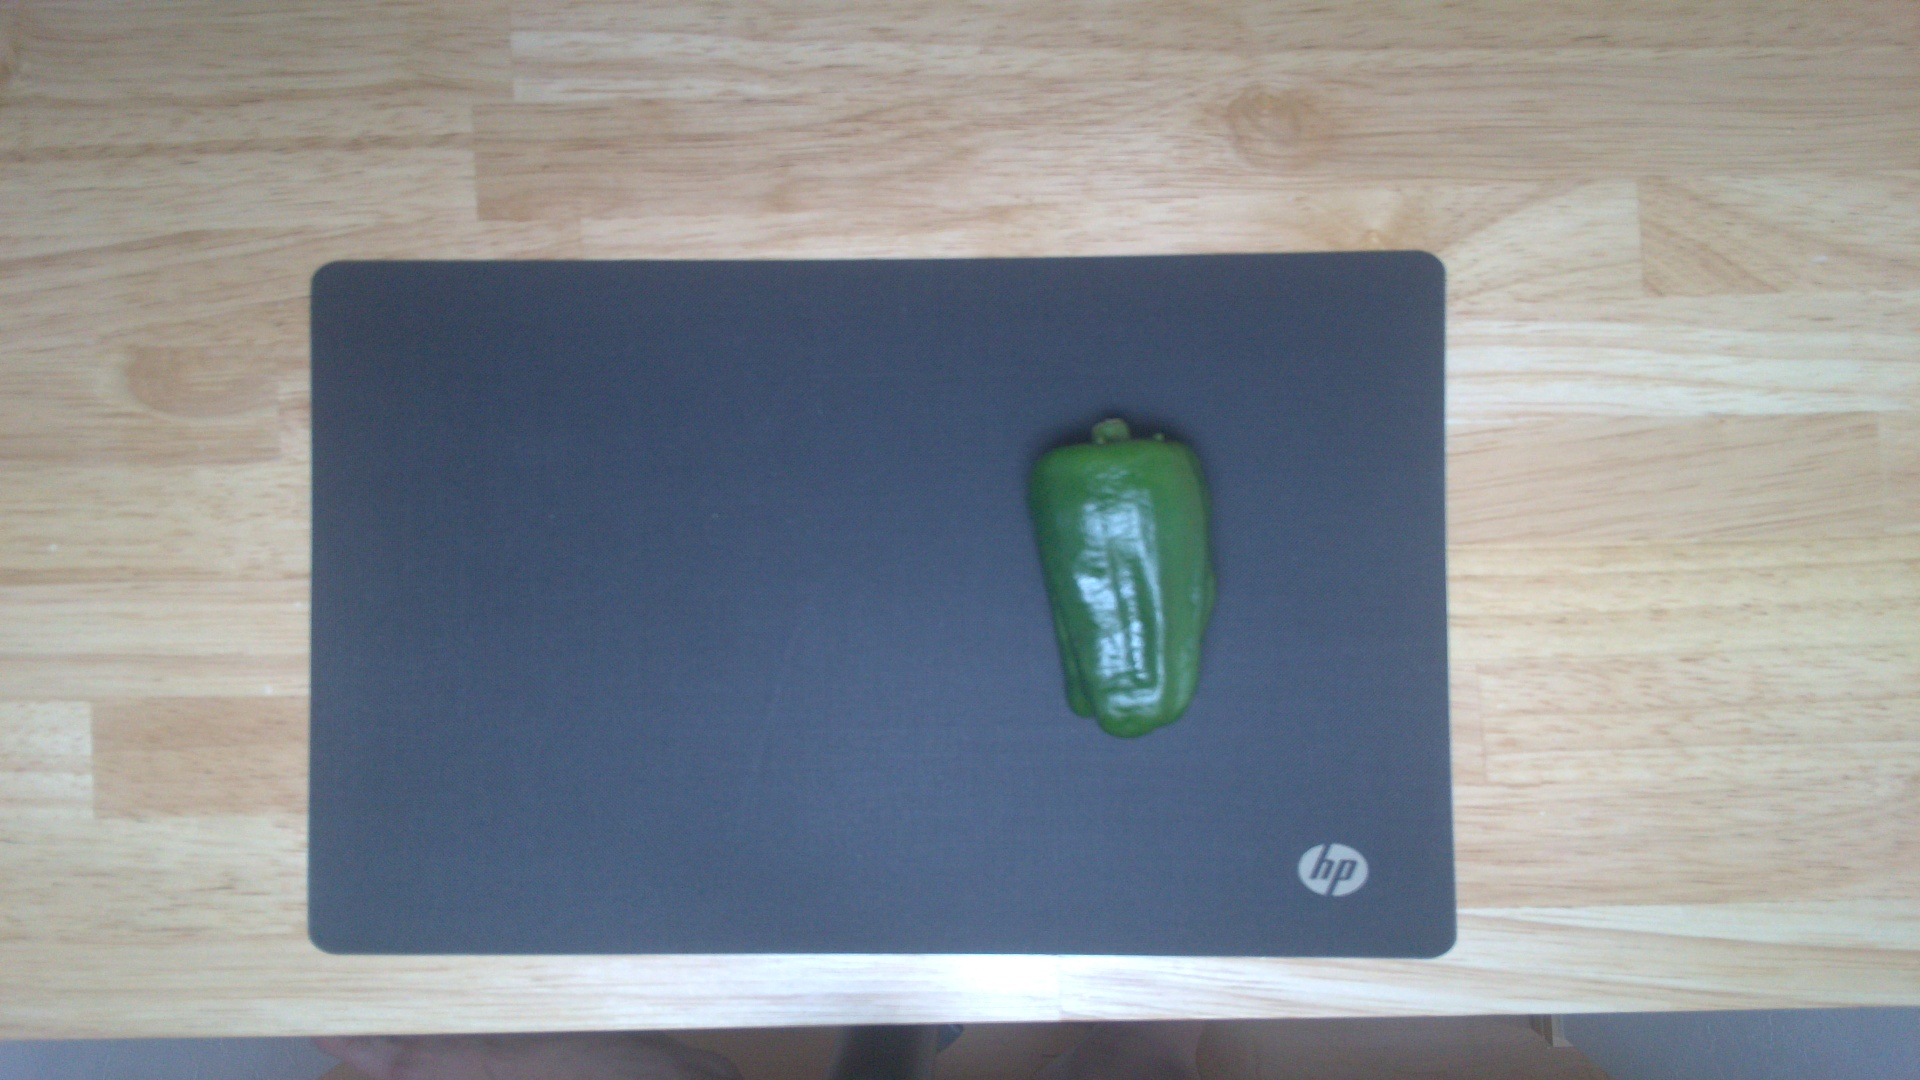Piman: (1025, 411, 1221, 737)
